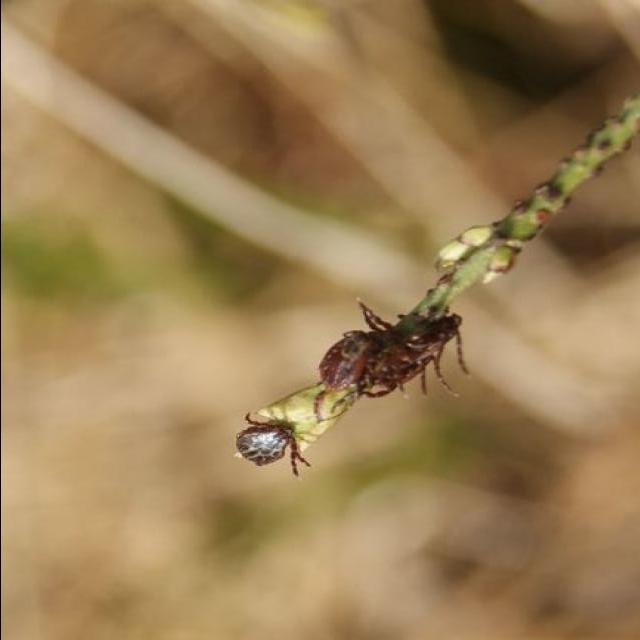Dermacentor Reticulatus-F: (319, 330, 378, 389)
Dermacentor Reticulatus-M: (235, 416, 310, 476)
